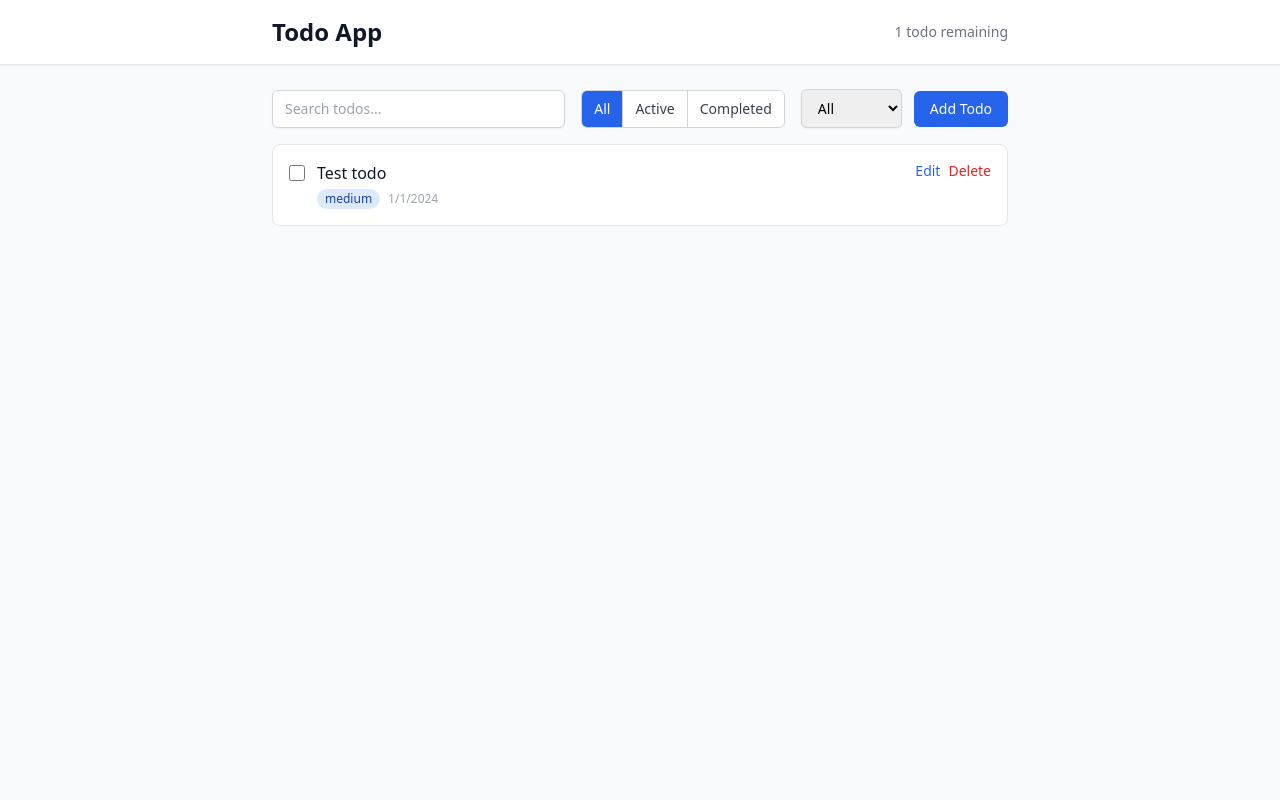
App › opens create modal when Add Todo is clicked
Click the button "Add Todo": (961, 108) top-left (914, 90), bottom-right (1008, 126)
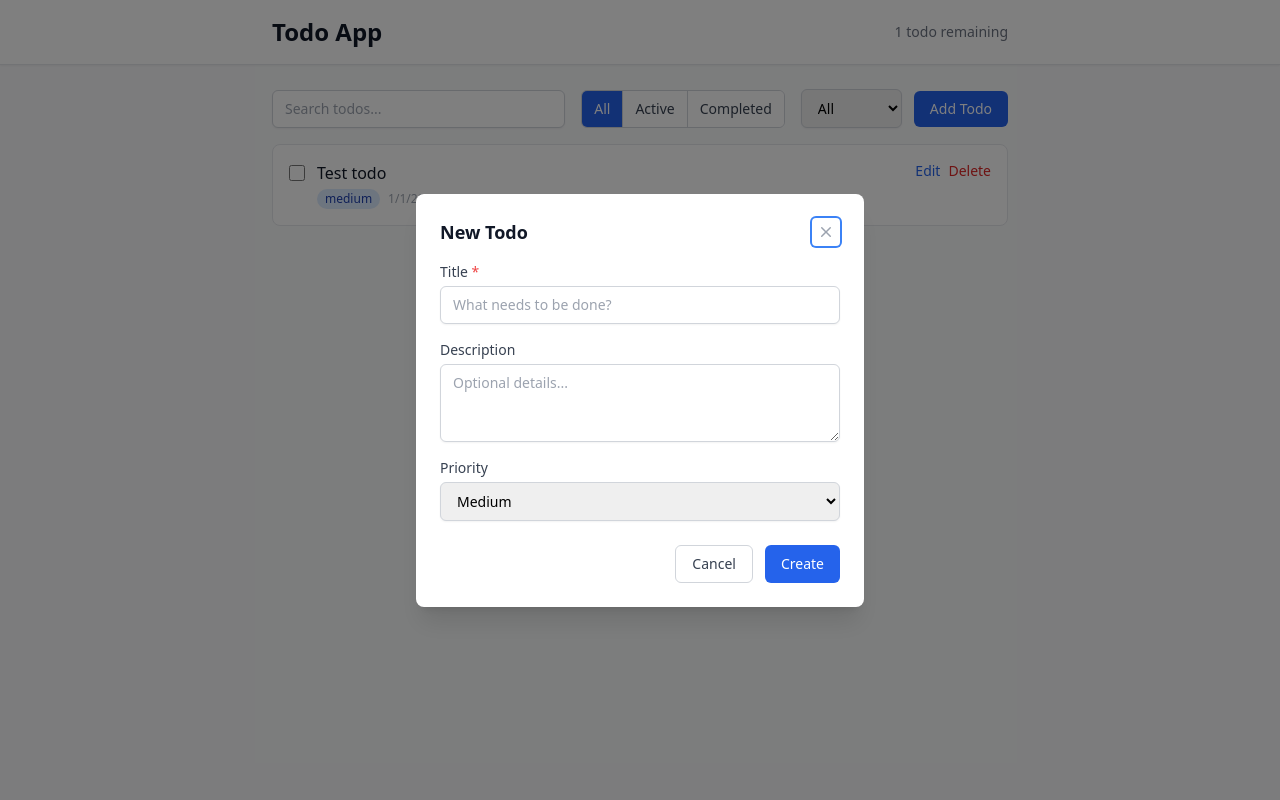
Expected: the dialog "New Todo" is shown
